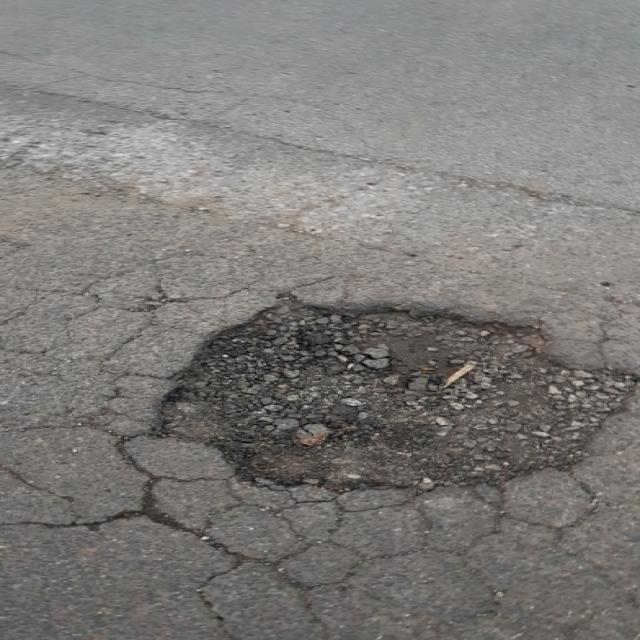Pothole: (132, 286, 638, 497)
